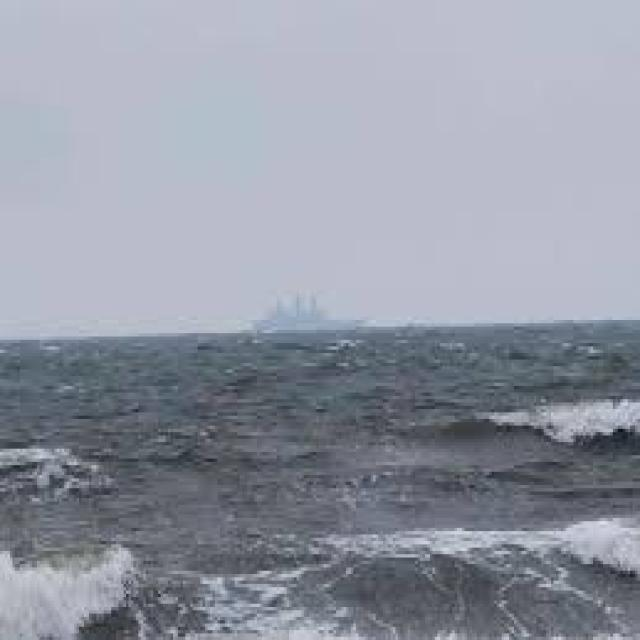fishing boat: (260, 275, 350, 346)
